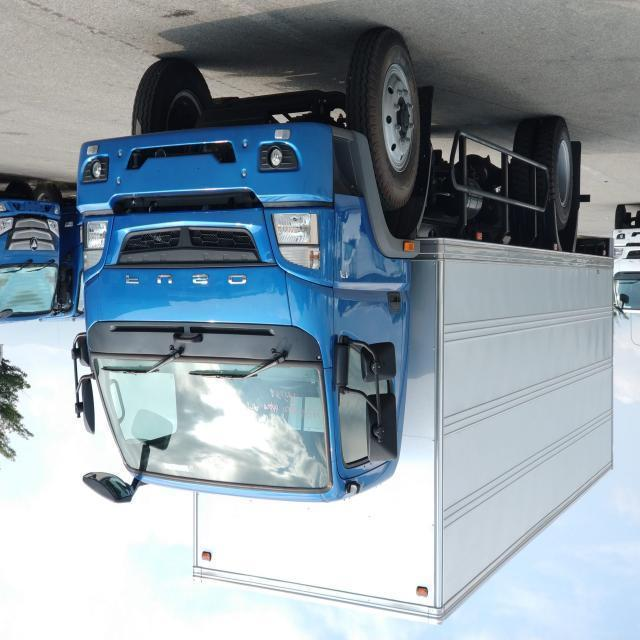truck: (81, 25, 616, 625)
